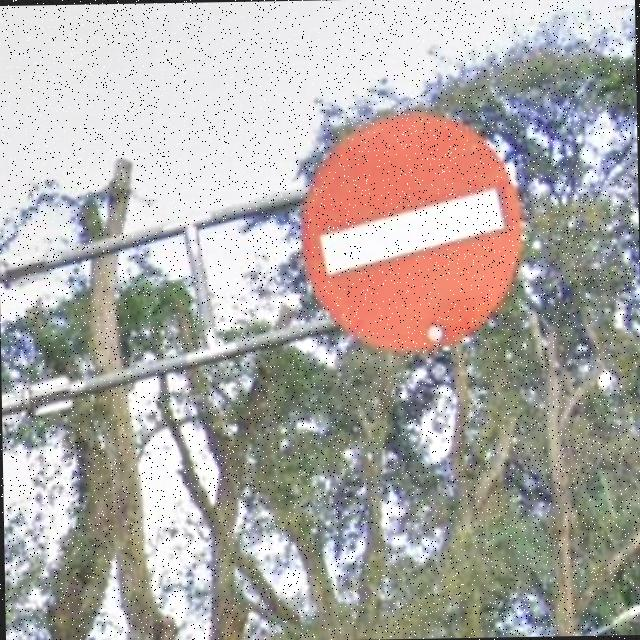Zakaz wjazdu: (299, 113, 516, 350)
